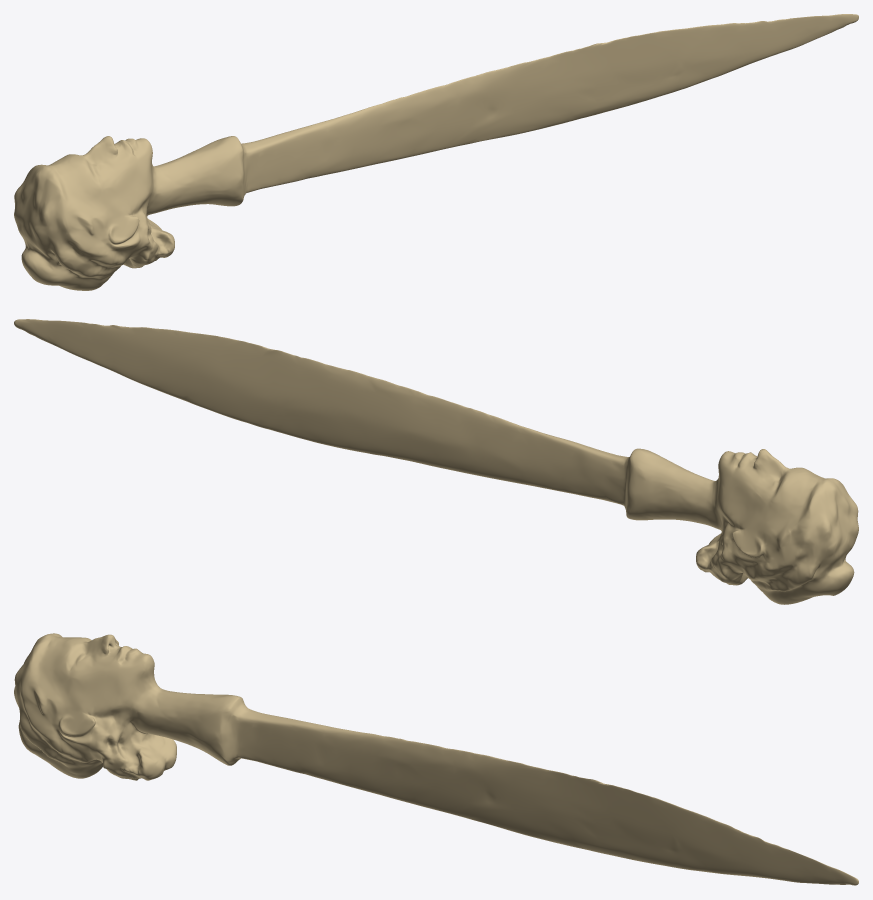
The model's file is ABRECARTAS.fbx.
3 renders of one model, top to bottom at view 1: azimuth 30°, elevation 25°; view 2: azimuth 150°, elevation 25°; view 3: azimuth 330°, elevation 25°, orthographic.
Visible parts, largest first — view 1: ABRECARTAS.001; view 2: ABRECARTAS.001; view 3: ABRECARTAS.001.
Part boxes in pixels (x1=…): ABRECARTAS.001: x1=14, y1=14, x2=858, y2=290; ABRECARTAS.001: x1=14, y1=319, x2=858, y2=604; ABRECARTAS.001: x1=14, y1=633, x2=858, y2=885.
Size of the model in its own units: 2215 by 364 by 251.
